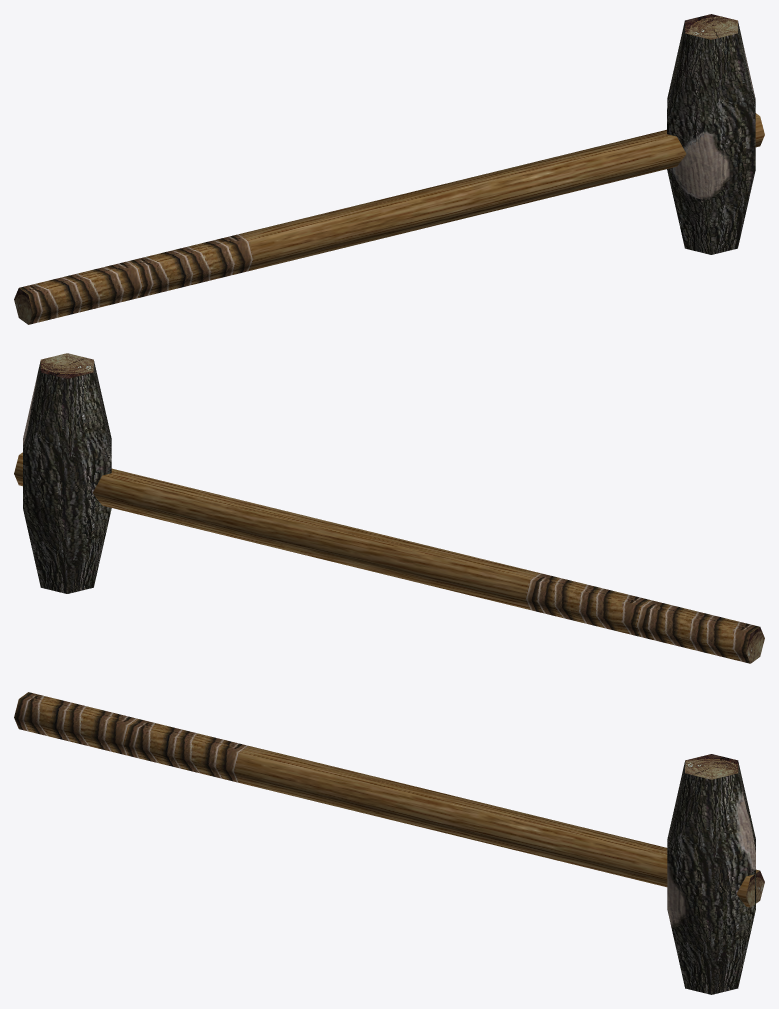
3 renders of one model, top to bottom at view 1: azimuth 30°, elevation 25°; view 2: azimuth 150°, elevation 25°; view 3: azimuth 330°, elevation 25°, orthographic.
Parts seen in each view (by area): view 1: IT10013_DMSPRITEDEF_node; view 2: IT10013_DMSPRITEDEF_node; view 3: IT10013_DMSPRITEDEF_node.
Boxes of the visible parts, x1=… form: IT10013_DMSPRITEDEF_node: x1=14, y1=14, x2=764, y2=324; IT10013_DMSPRITEDEF_node: x1=14, y1=353, x2=764, y2=663; IT10013_DMSPRITEDEF_node: x1=14, y1=692, x2=764, y2=994.
Bounding box in the file's own units: 3.31 × 0.9287 × 0.3464.
4 materials, 4 textured.
